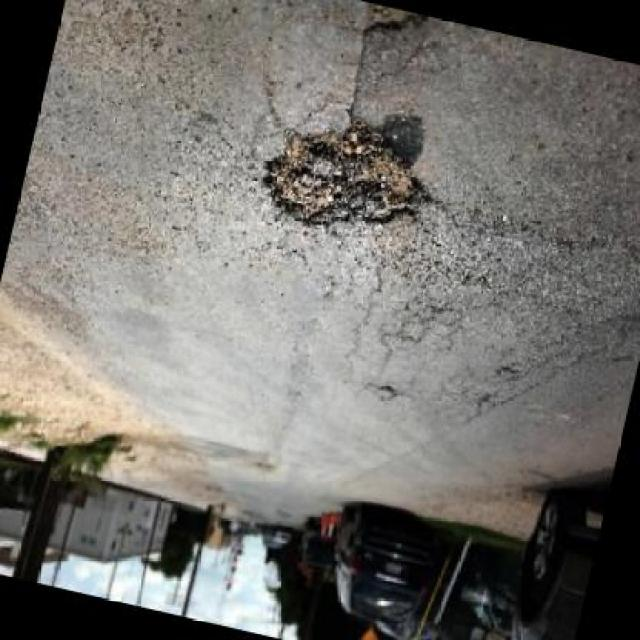pothole1: (253, 107, 439, 251), (358, 4, 428, 54)
